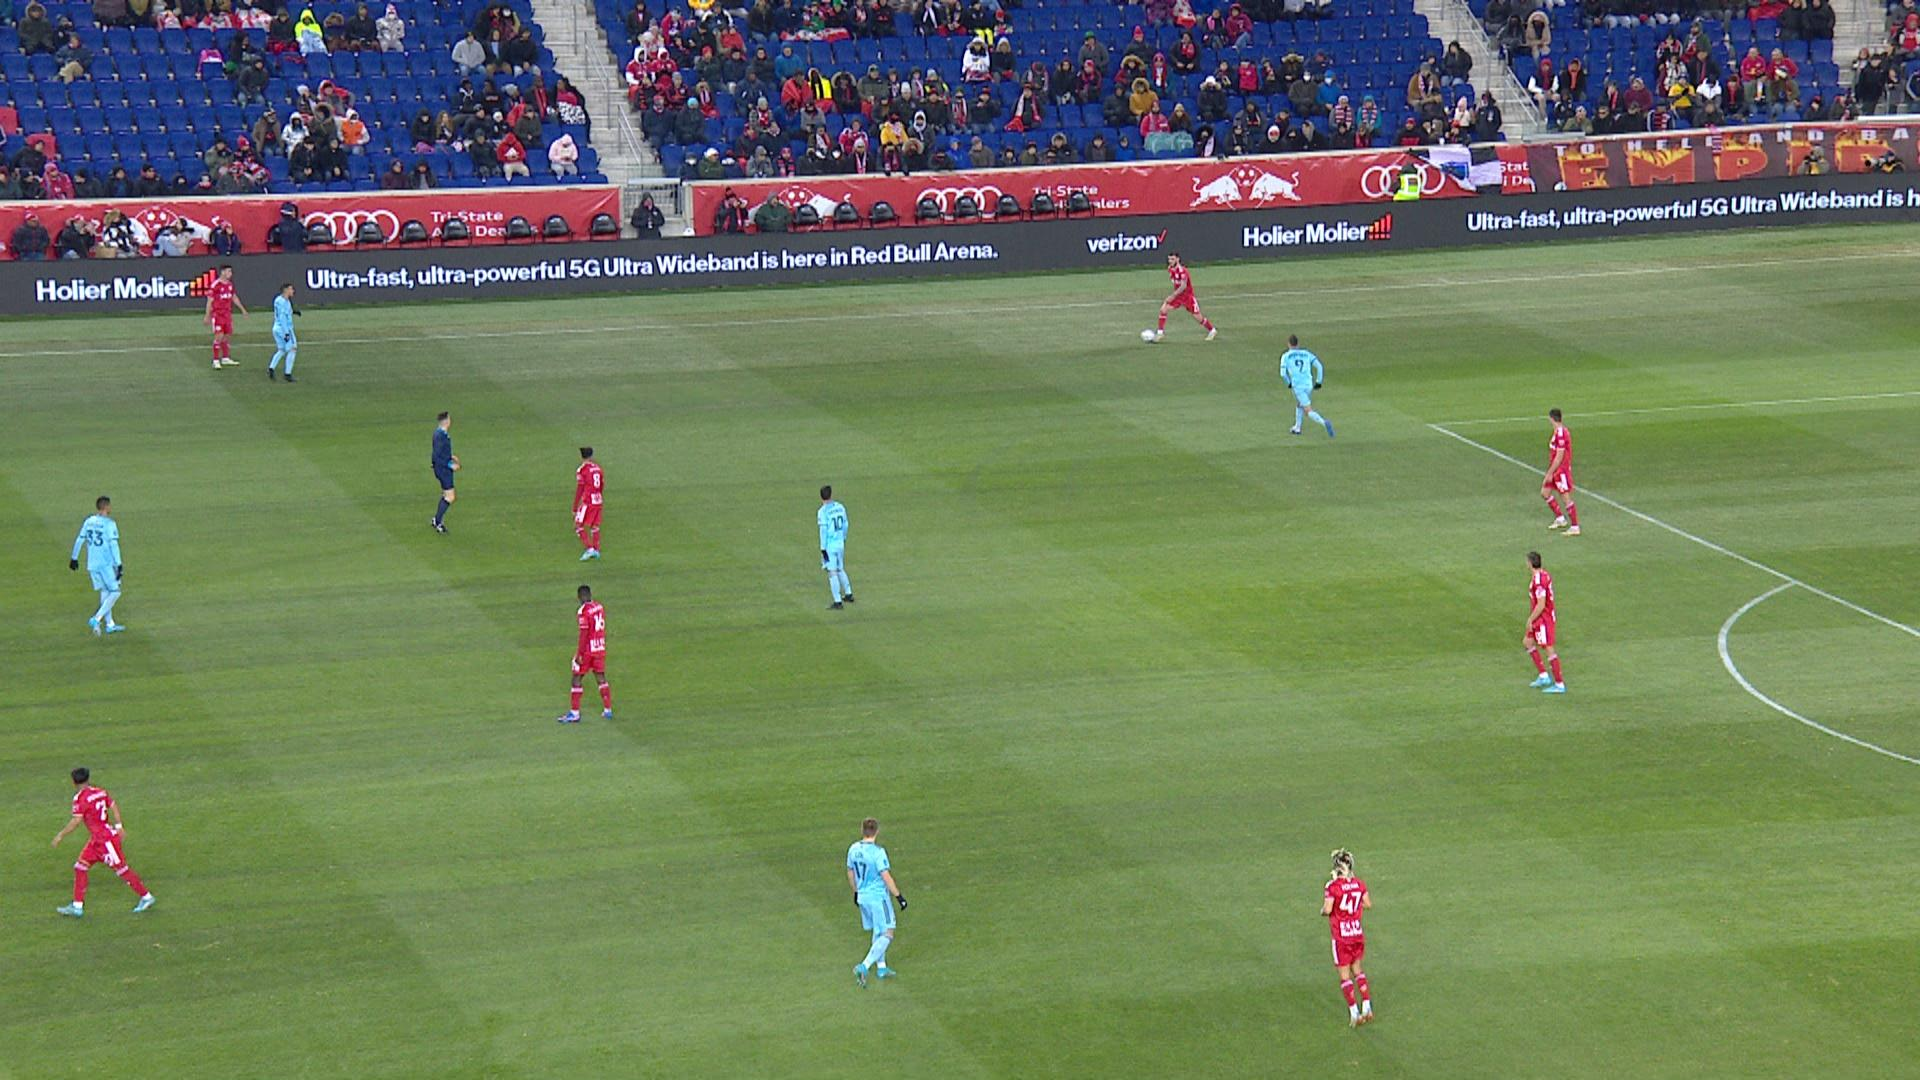football: (1139, 330, 1154, 342)
